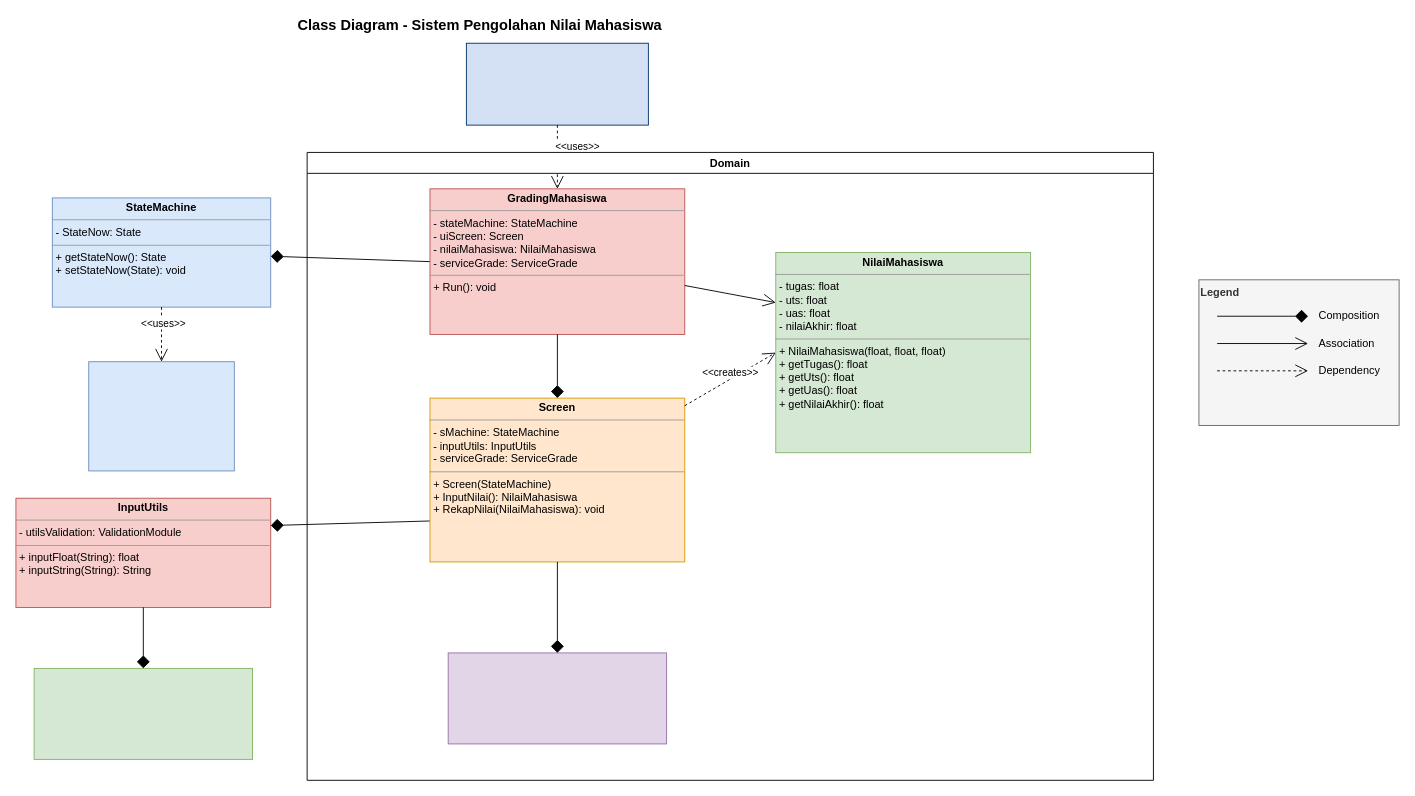
The diagram is 1415 pixels wide and 796 high, and some of its shapes have lost their labels. The shapes that lost their labels are listed below. From the top down, each one's centre as x and y in pixels, then its label:
At point (556, 83): "App + main(String[] args): void".
At point (161, 416): "<<enumeration>> State Input Recap Running None".
At point (143, 713): "ValidationModule + isValid(float): boolean - isInRange(double): boolean".
At point (557, 698): "ServiceGrade + getGrade(float): char + getStatus(float): String".
